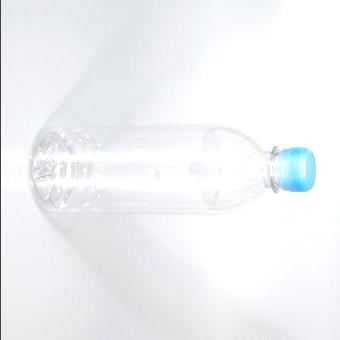bottle: (29, 123, 314, 223)
